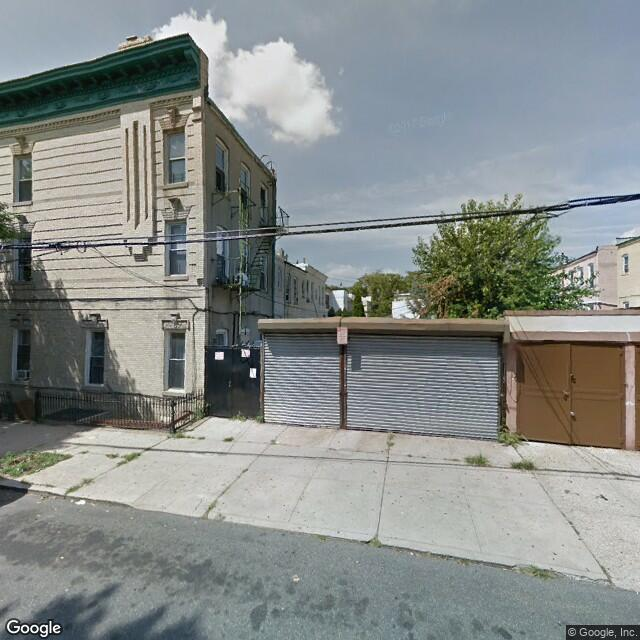litter: (286, 566, 303, 584), (71, 493, 88, 508)
